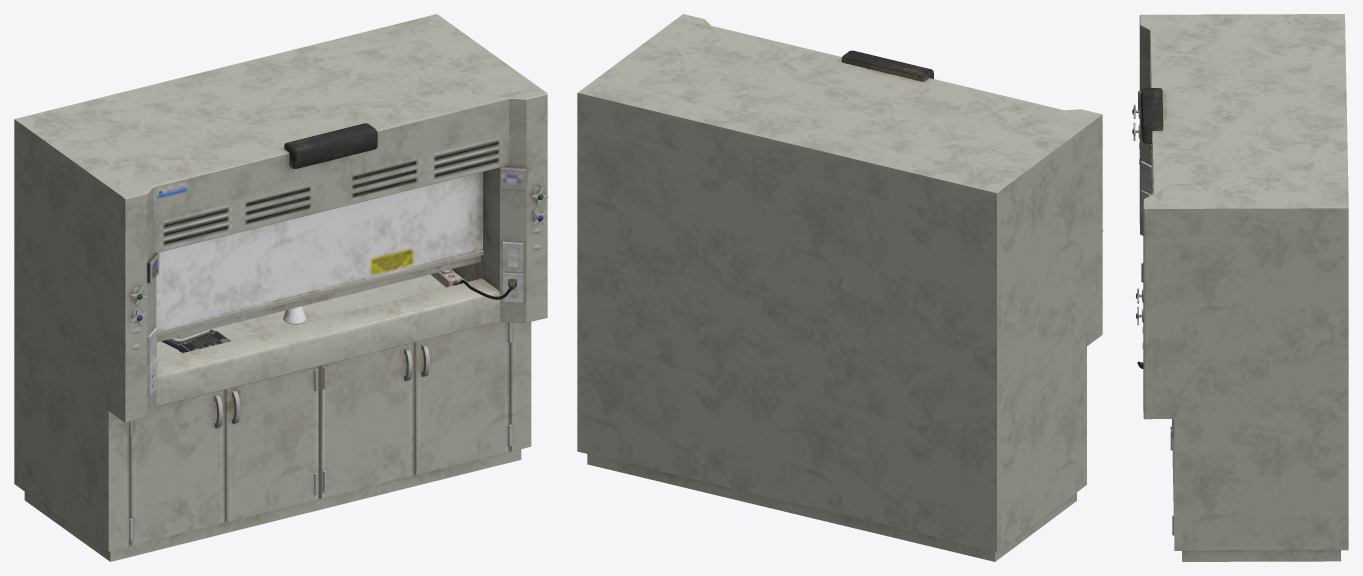
The model's file is fume hood.fbx.
The picture shows the model from 3 angles, left to right: view 1: azimuth 30°, elevation 25°; view 2: azimuth 150°, elevation 25°; view 3: azimuth 270°, elevation 25°; orthographic projection. The views are drawn at different scales.
Parts seen in each view (by area): view 1: object_0, object_14, object_0.004, object_0.003, object_0.001, object_0.002, object_12; view 2: object_0; view 3: object_0.
Part boxes in pixels (x1,y1,x2,y2): object_0: [14, 14, 548, 561]; object_14: [156, 172, 482, 331]; object_0.004: [414, 321, 511, 475]; object_0.003: [129, 389, 225, 546]; object_0.001: [322, 342, 414, 497]; object_0.002: [225, 367, 317, 522]; object_12: [161, 329, 230, 352]; object_0: [577, 14, 1103, 561]; object_0: [1132, 14, 1348, 561].
Size of the model in its own units: 302 by 261 by 142.
